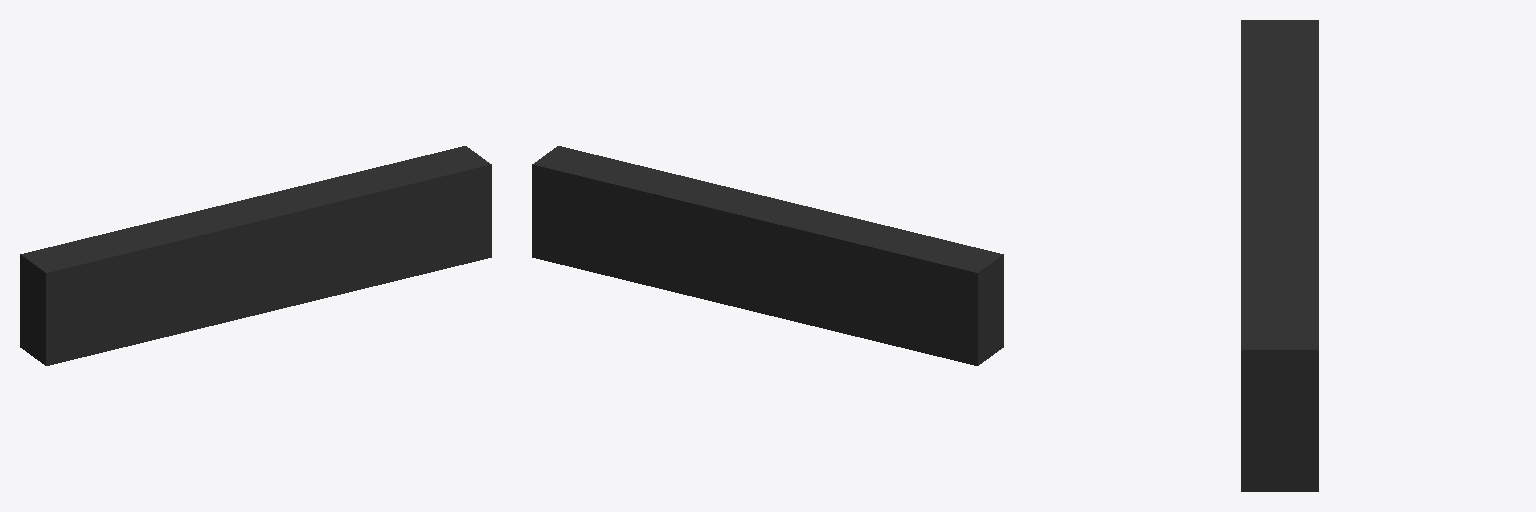
robot.urdf — wall:
<robot name="wall">
  <link name="baseLink">
   
    <inertial>
      <origin rpy="0 0 0" xyz="0 0 0" />
       <mass value="10" />
       <inertia ixx="0" ixy="0" ixz="0" iyy="0" iyz="0" izz="0" />
    </inertial>
    <visual>
      <origin rpy="0 0 0" xyz="0 0 0" />
      <geometry>
			  <box size="1 0.1 0.2" />
      </geometry>
       <material name="grey">
        <color rgba="0.24 0.24 0.24 1" />
      </material>
    </visual>
    <collision>
      <origin rpy="0 0 0" xyz="0 0 0" />
      <geometry>
	 	      <box size="1 0.1 0.2" />
      </geometry>
    </collision>
  </link>
</robot>

--- Render facts (derived) ---
3 views of the same robot in one strip: view 1: azimuth 30°, elevation 25°; view 2: azimuth 150°, elevation 25°; view 3: azimuth 270°, elevation 25° (orthographic).
Model wall with 1 links and 0 joints (none), rooted at baseLink, posed every joint at zero.
Links seen in each view (by area): view 1: baseLink; view 2: baseLink; view 3: baseLink.
Boxes of the visible links, x1=… form: baseLink: x1=20, y1=146, x2=491, y2=365; baseLink: x1=532, y1=146, x2=1003, y2=365; baseLink: x1=1241, y1=20, x2=1318, y2=491.
Bounding box of the posed robot: 1 × 0.1 × 0.2 m (x, y, z).
Geometry: primitives only (box / cylinder / sphere), no mesh files.
